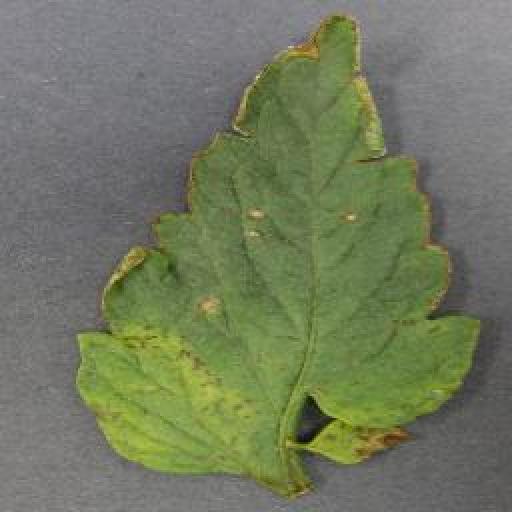Bacterial Spot: (68, 9, 492, 505)
